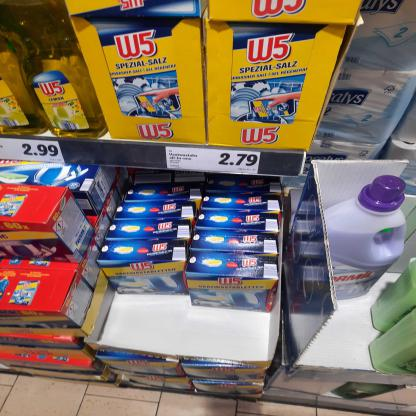prtg: (166, 147, 262, 174), (1, 139, 66, 164)
